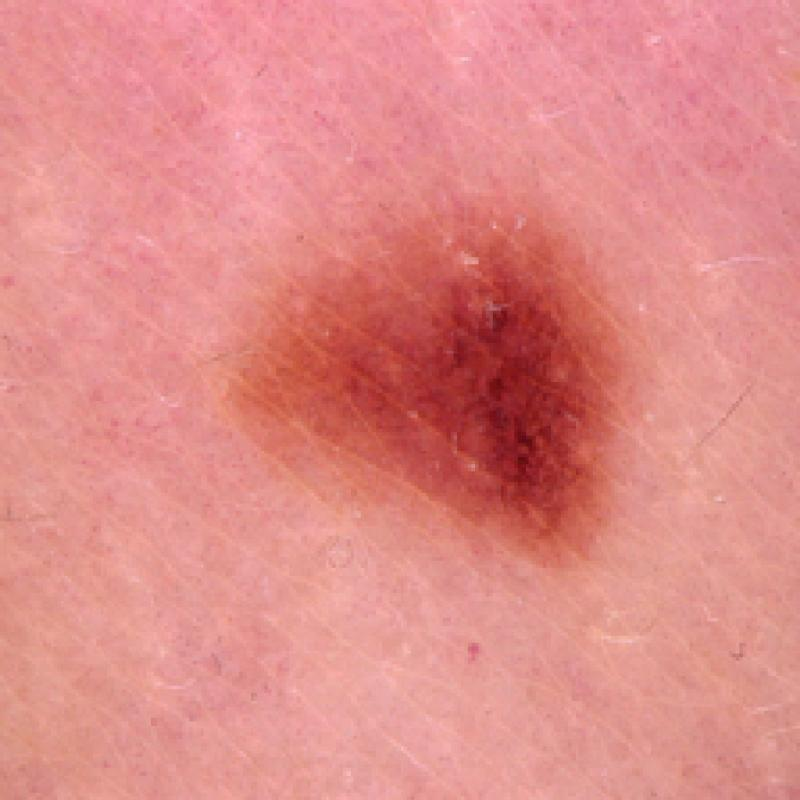benign: (216, 194, 660, 586)
